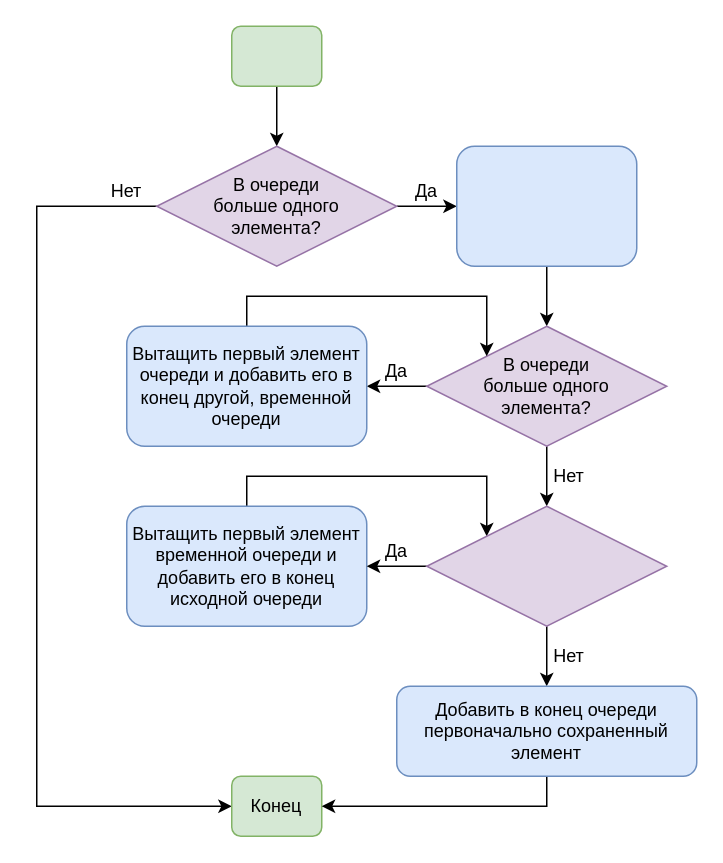
Image size: 723x863. Some labels were removed from this diagram. The shapes that lost their labels are listed below. From the top down, each one's box as (x1, y1, x2, y2) in pixels, then its label:
(230, 25, 322, 86): Начало
(455, 145, 637, 266): Вытащить и сохранить первый элемент очереди
(425, 505, 667, 626): Во временной очереди остались элементы?
